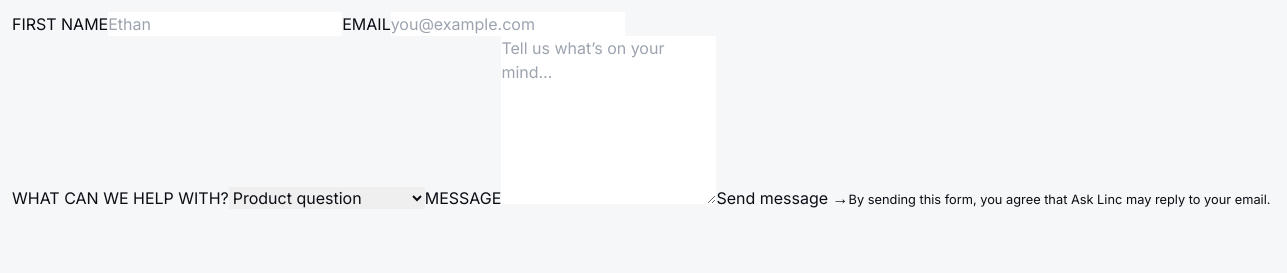
Test: marketing review fixes › shows API failures without discarding the form
In the field labelled "EMAIL": (508, 24) [391,12,625,36], type "ethan@example.com"
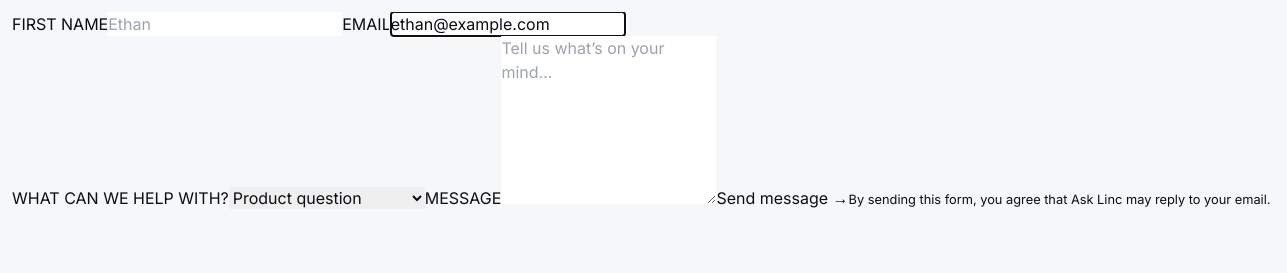
In the text box labelled "MESSAGE": (609, 120) [501,36,716,204], type "Please help with my account."
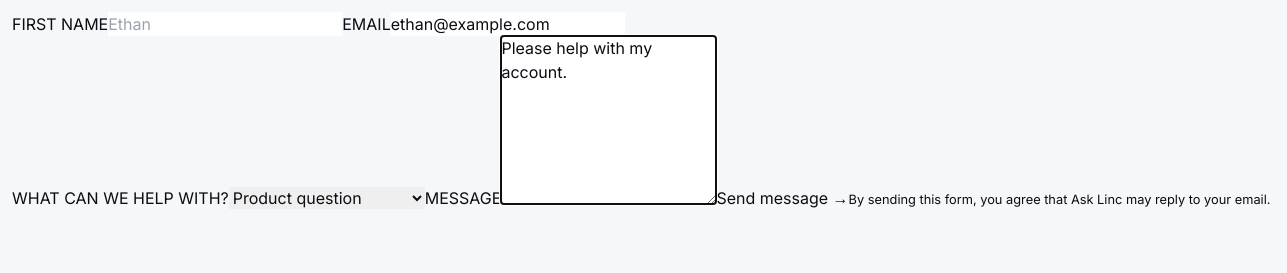
Click the button "Send message →": (782, 198) [716,186,849,210]
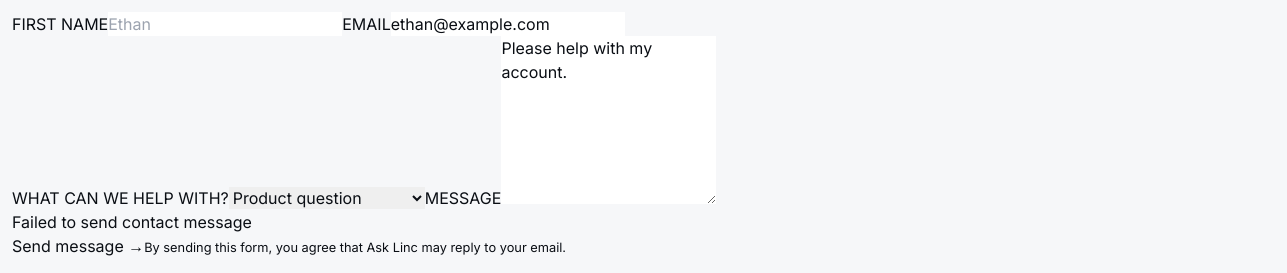
Check: the message reads "Failed to send contact message", box [12,212,252,232]
